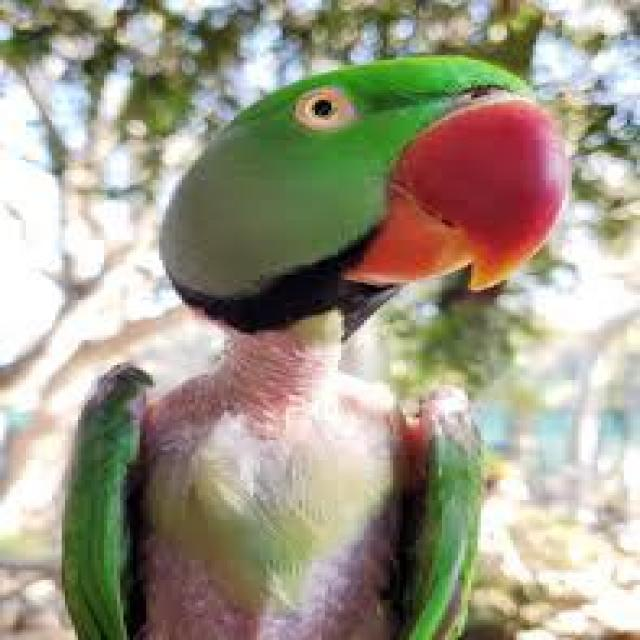Parrot: (49, 50, 575, 640)
